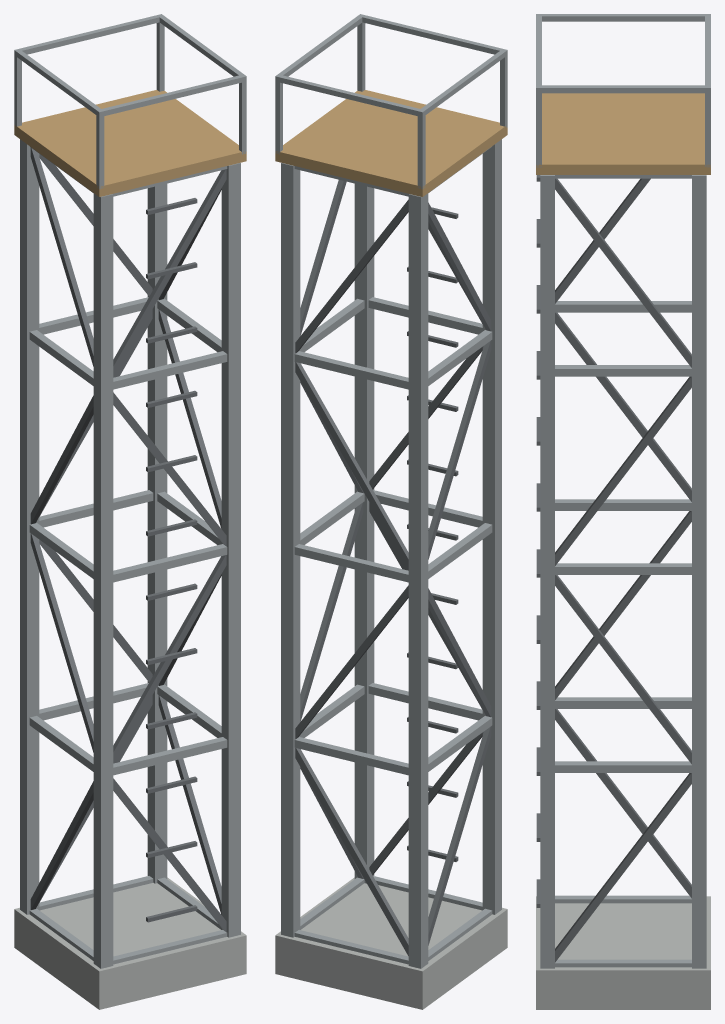
The model's file is torreta.glb.
3 renders of one model, left to right at view 1: azimuth 30°, elevation 25°; view 2: azimuth 150°, elevation 25°; view 3: azimuth 270°, elevation 25°, orthographic. The views are drawn at different scales.
Parts seen in each view (by area): view 1: torreta; view 2: torreta; view 3: torreta.
Boxes of the visible parts, x1,y1,x2,y2 form: torreta: [14, 14, 246, 1009]; torreta: [275, 14, 507, 1009]; torreta: [536, 14, 710, 1009].
Size of the model in its own units: 1.2 by 6.98 by 1.2.
